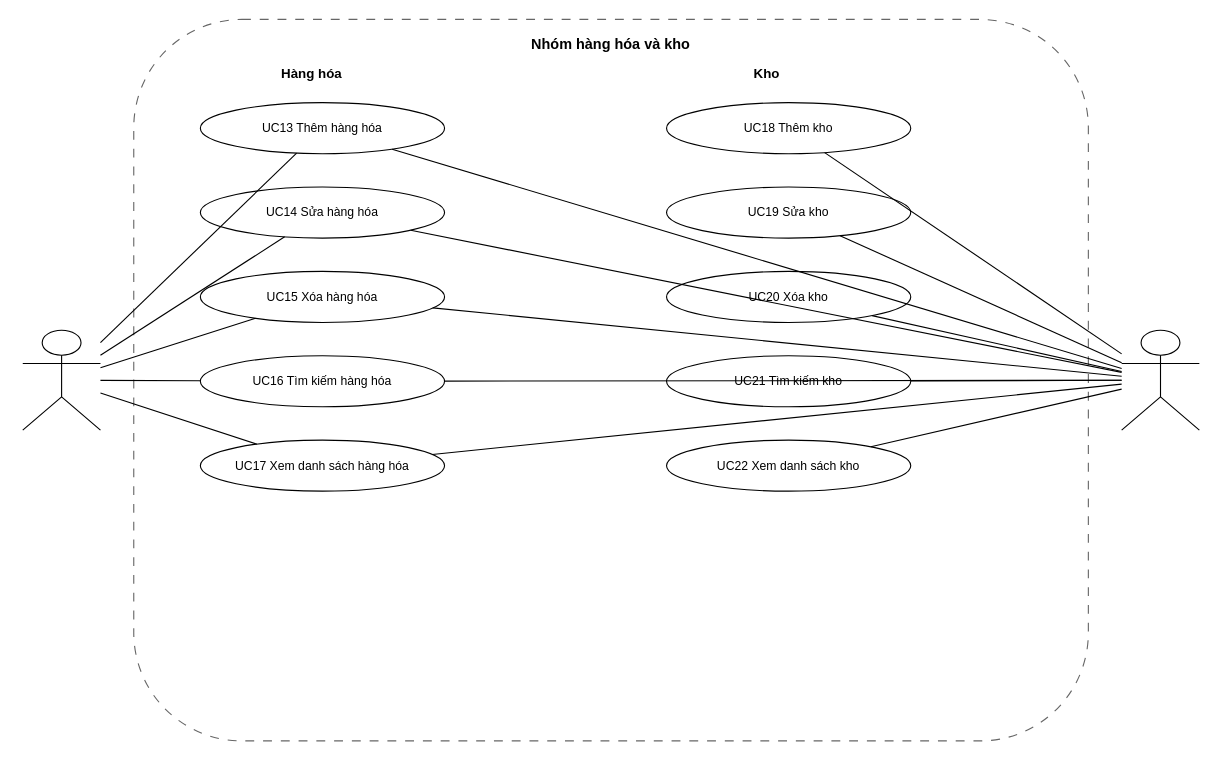
The diagram is 1219 pixels wide and 760 high, and some of its shapes have lost their labels. The centre of each missing label's shape, as x and y in pixels:
Nhân viên kho: the point at 61,379
Quản lý kho: the point at 1160,379
